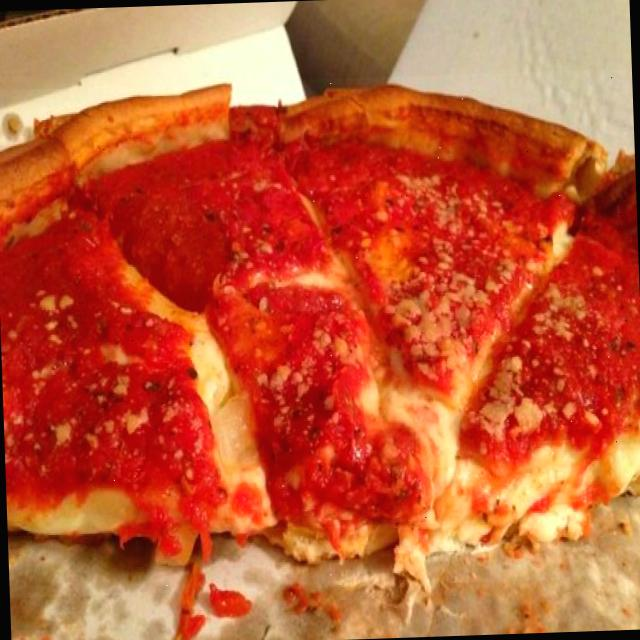pizza: (0, 82, 640, 583)
tomato: (259, 307, 418, 528), (38, 304, 200, 494), (476, 331, 612, 446), (387, 236, 482, 352)
